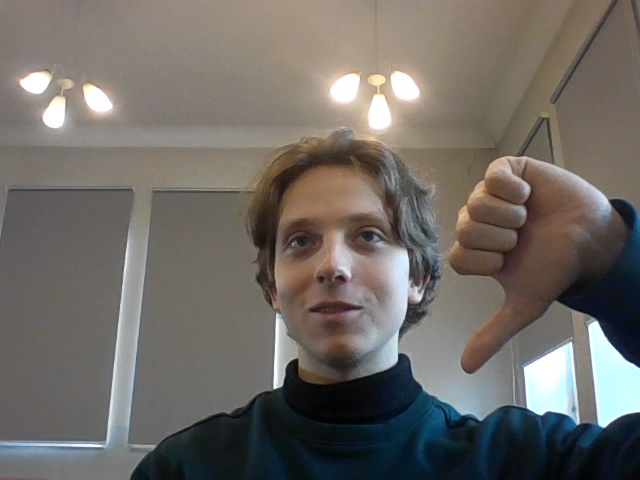no: (447, 156, 588, 381)
